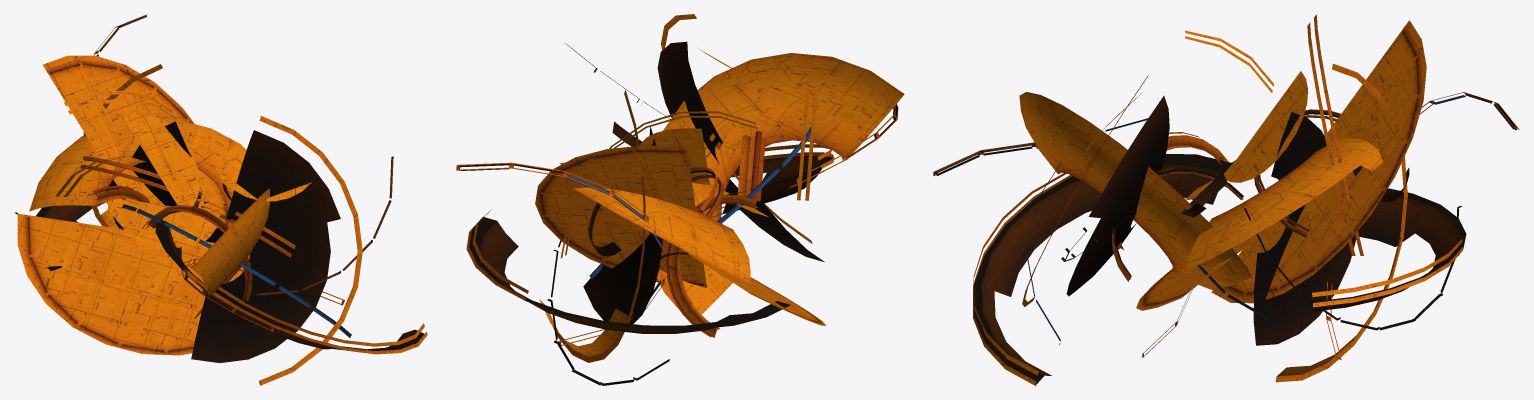
Rendered from MonsterB_Die12.obj.
3 views of the same model, side by side, from view 1: azimuth 30°, elevation 25°; view 2: azimuth 150°, elevation 25°; view 3: azimuth 270°, elevation 25° (orthographic). The views are drawn at different scales.
Visible parts, largest first — view 1: Sphere001; view 2: Sphere001; view 3: Sphere001.
Part boxes in pixels (bbox=[...]): Sphere001: bbox=[15, 14, 427, 385]; Sphere001: bbox=[456, 14, 904, 385]; Sphere001: bbox=[933, 14, 1519, 385].
Size of the model in its own units: 228 by 183 by 348.
1 material, 1 textured.
